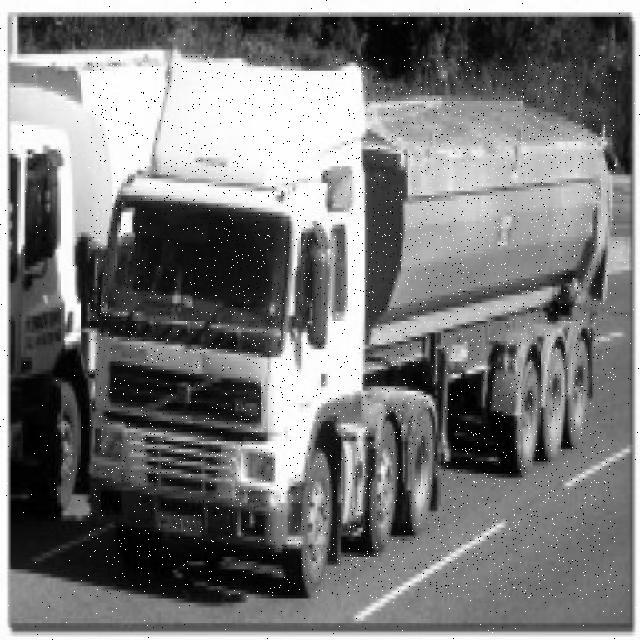Tractor Trailer: (88, 56, 616, 598)
